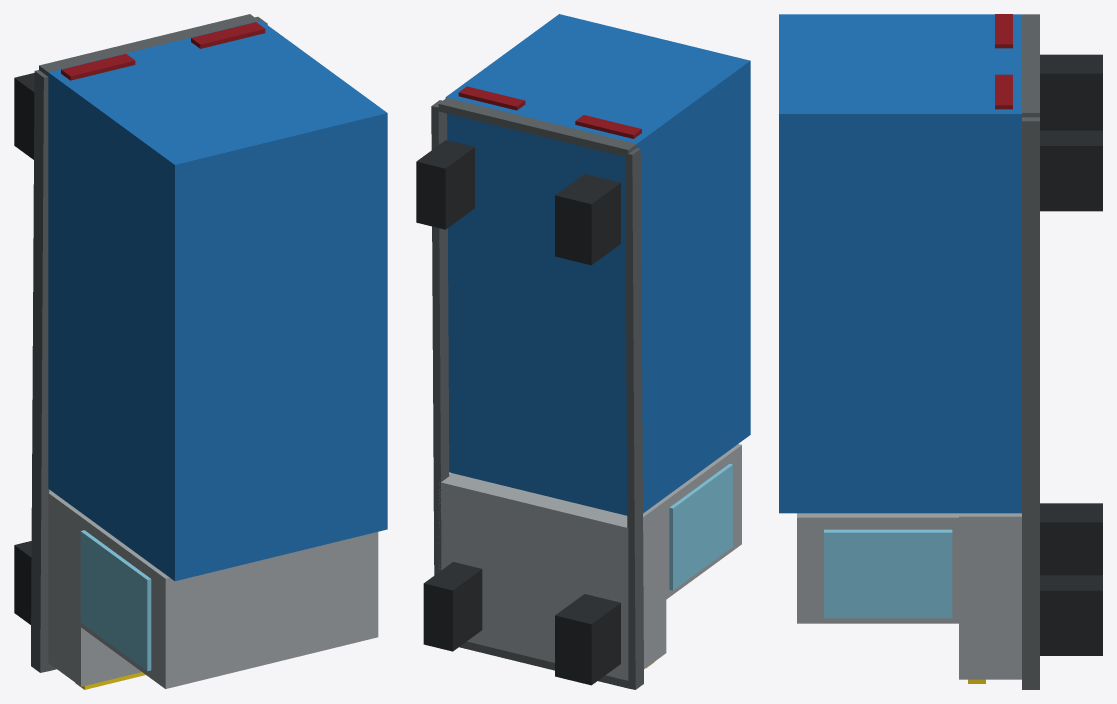
File: tinker.obj
3 views of the same model, side by side, from view 1: azimuth 30°, elevation 25°; view 2: azimuth 150°, elevation 25°; view 3: azimuth 270°, elevation 25° (orthographic). The views are drawn at different scales.
Visible parts, largest first — view 1: obj_17, obj_5, obj_13, obj_0, obj_16, obj_12, obj_4, obj_1, obj_10, obj_9; view 2: obj_17, obj_0, obj_13, obj_16, obj_14, obj_1, obj_4, obj_2, obj_3, obj_12, obj_5, obj_11 (+2 smaller); view 3: obj_17, obj_15, obj_0, obj_14, obj_5, obj_3, obj_2, obj_4, obj_1, obj_12, obj_9, obj_10.
Part boxes in pixels (bbox=[...]): obj_17: bbox=[48, 20, 387, 581]; obj_5: bbox=[81, 516, 378, 688]; obj_13: bbox=[31, 70, 49, 672]; obj_0: bbox=[48, 489, 141, 686]; obj_16: bbox=[80, 530, 151, 671]; obj_12: bbox=[39, 14, 258, 76]; obj_4: bbox=[14, 73, 34, 159]; obj_1: bbox=[14, 541, 31, 624]; obj_10: bbox=[61, 54, 135, 80]; obj_9: bbox=[191, 22, 265, 48]; obj_17: bbox=[445, 14, 750, 515]; obj_0: bbox=[438, 473, 666, 680]; obj_13: bbox=[625, 148, 643, 689]; obj_16: bbox=[669, 463, 732, 590]; obj_14: bbox=[431, 100, 449, 575]; obj_1: bbox=[555, 594, 620, 685]; obj_4: bbox=[555, 174, 620, 265]; obj_2: bbox=[423, 562, 482, 651]; obj_3: bbox=[416, 140, 474, 229]; obj_12: bbox=[438, 97, 636, 157]; obj_5: bbox=[662, 444, 741, 599]; obj_11: bbox=[459, 641, 628, 688]; obj_17: bbox=[779, 14, 1021, 513]; obj_15: bbox=[824, 529, 952, 618]; obj_0: bbox=[959, 513, 1021, 679]; obj_14: bbox=[1022, 117, 1039, 689]; obj_5: bbox=[797, 513, 958, 623]; obj_3: bbox=[1040, 130, 1102, 211]; obj_2: bbox=[1040, 575, 1102, 655]; obj_4: bbox=[1040, 54, 1102, 130]; obj_1: bbox=[1040, 503, 1102, 575]; obj_12: bbox=[1022, 14, 1039, 117]; obj_9: bbox=[995, 74, 1012, 109]; obj_10: bbox=[995, 14, 1012, 48].
Bounding box in the file's own units: 28 × 71 × 36.
